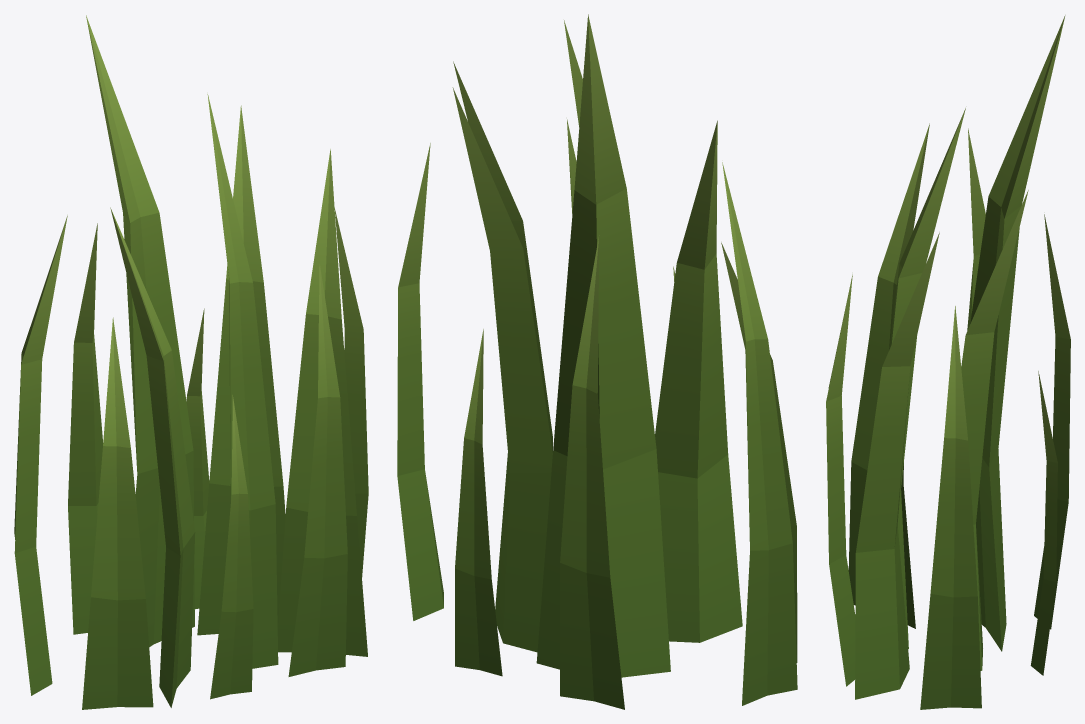
The model's file is Mesh_Nature_Grass_03.FBX.
3 renders of one model, left to right at view 1: azimuth 30°, elevation 25°; view 2: azimuth 150°, elevation 25°; view 3: azimuth 270°, elevation 25°, orthographic. The views are drawn at different scales.
Visible parts, largest first — view 1: Mesh_Nature_Grass_03; view 2: Mesh_Nature_Grass_03; view 3: Mesh_Nature_Grass_03.
Part boxes in pixels (<box>): Mesh_Nature_Grass_03: <box>14,15,368,709</box>; Mesh_Nature_Grass_03: <box>397,14,797,709</box>; Mesh_Nature_Grass_03: <box>826,15,1070,709</box>.
Size of the model in its own units: 10.71 by 18.28 by 6.74.
